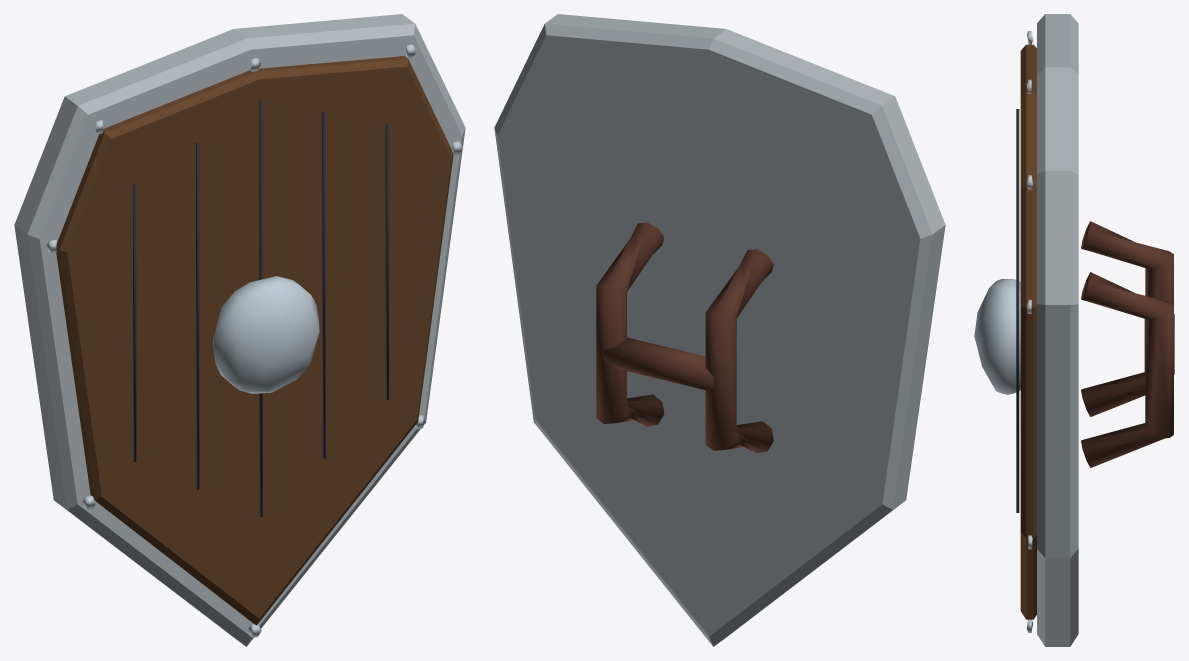
The model's file is wooden-shield-standard-low.glb.
3 renders of one model, left to right at view 1: azimuth 30°, elevation 25°; view 2: azimuth 150°, elevation 25°; view 3: azimuth 270°, elevation 25°, orthographic. The views are drawn at different scales.
Visible parts, largest first — view 1: wooden-shield__standard; view 2: wooden-shield__standard; view 3: wooden-shield__standard.
Part boxes in pixels (x1,y1,x2,y2): wooden-shield__standard: (14, 14, 465, 646); wooden-shield__standard: (494, 14, 945, 646); wooden-shield__standard: (974, 14, 1174, 646).
Size of the model in its own units: 0.52 by 0.69 by 0.2162.
